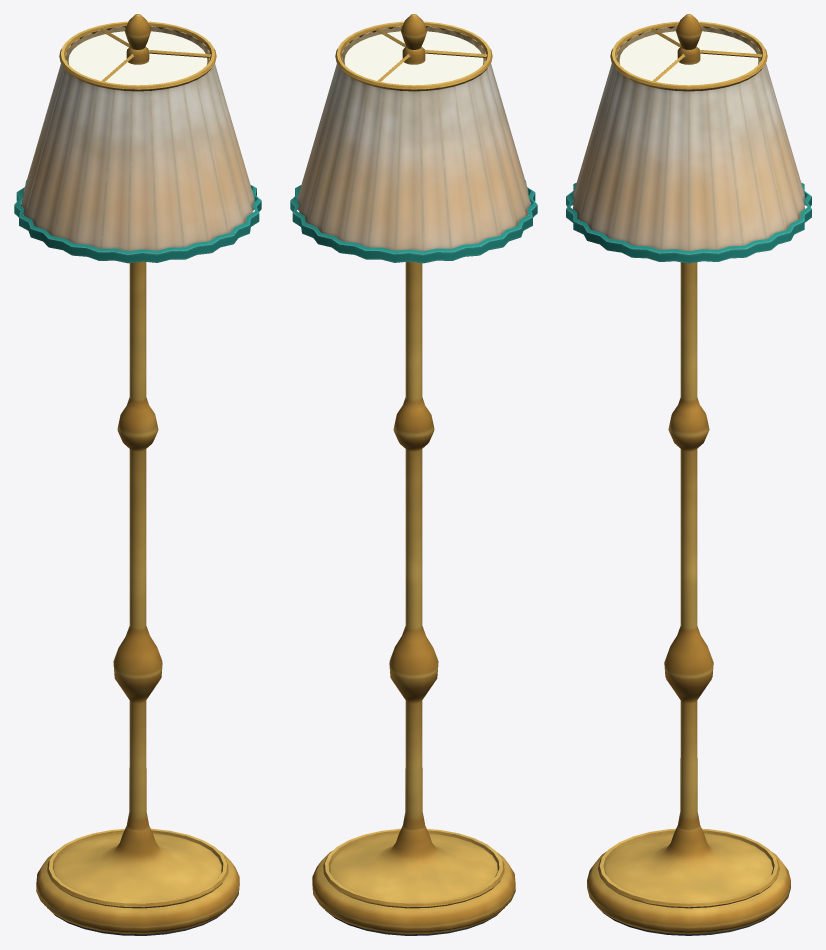
The model's file is floor-lamp.fbx.
3 renders of one model, left to right at view 1: azimuth 30°, elevation 25°; view 2: azimuth 150°, elevation 25°; view 3: azimuth 270°, elevation 25°, orthographic.
Visible parts, largest first — view 1: Body; view 2: Body; view 3: Body.
Part boxes in pixels (x1,y1,x2,y2): Body: [14, 14, 261, 935]; Body: [290, 14, 537, 935]; Body: [566, 14, 811, 935].
Bounding box in the file's own units: 0.4814 × 1.89 × 0.4779.
